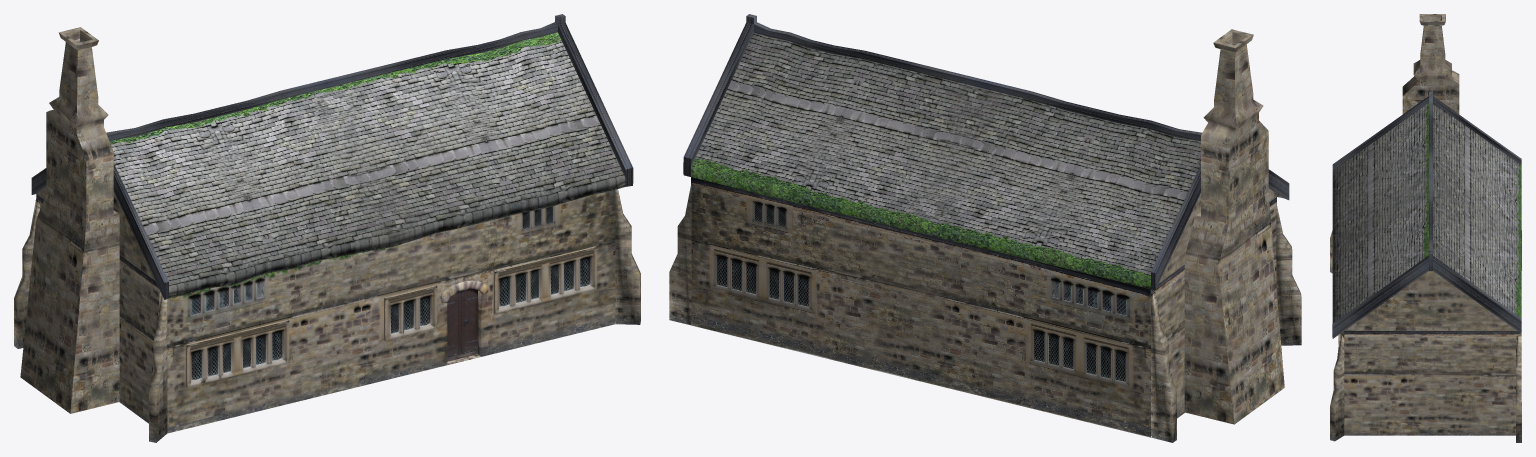
The model's file is medhouse8.fbx.
3 views of the same model, side by side, from view 1: azimuth 30°, elevation 25°; view 2: azimuth 150°, elevation 25°; view 3: azimuth 270°, elevation 25° (orthographic). The views are drawn at different scales.
Parts seen in each view (by area): view 1: medhouse8; view 2: medhouse8; view 3: medhouse8.
Part boxes in pixels (x1,y1,x2,y2): medhouse8: (14,14,640,442); medhouse8: (669,14,1301,442); medhouse8: (1330,14,1521,442).
Size of the model in its own units: 1612 by 1038 by 714.
